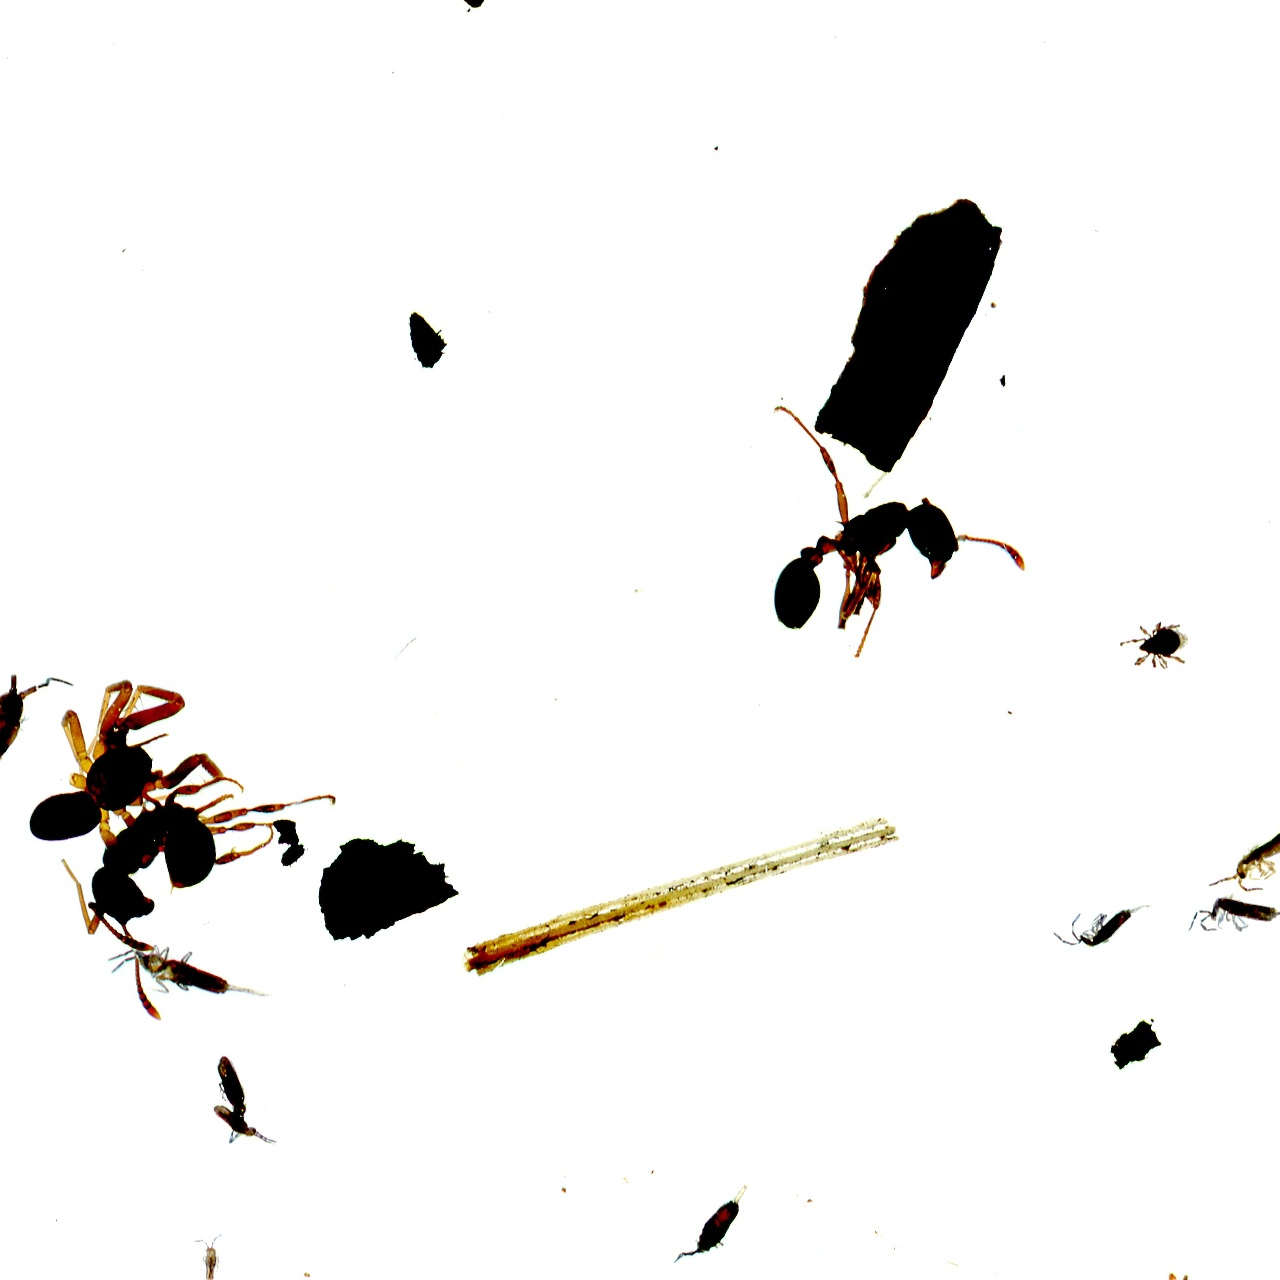arthropod: (758, 384, 1036, 666), (56, 751, 340, 1022), (27, 659, 223, 851), (98, 922, 282, 1026), (0, 632, 82, 842), (667, 1143, 778, 1280), (193, 1048, 267, 1145), (1205, 799, 1280, 894), (205, 1090, 285, 1167), (1049, 896, 1157, 948), (1114, 617, 1193, 672), (1186, 893, 1280, 938), (184, 1228, 233, 1280), (1123, 1265, 1228, 1280)
